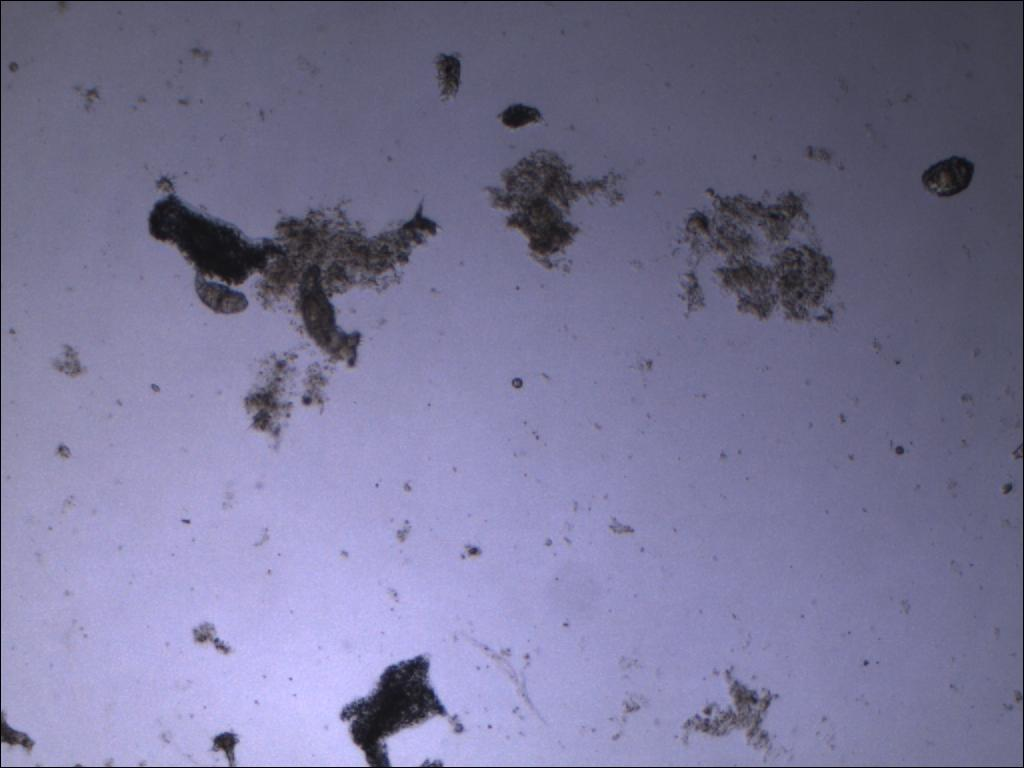amoeba: (331, 644, 456, 768), (140, 188, 282, 287)
